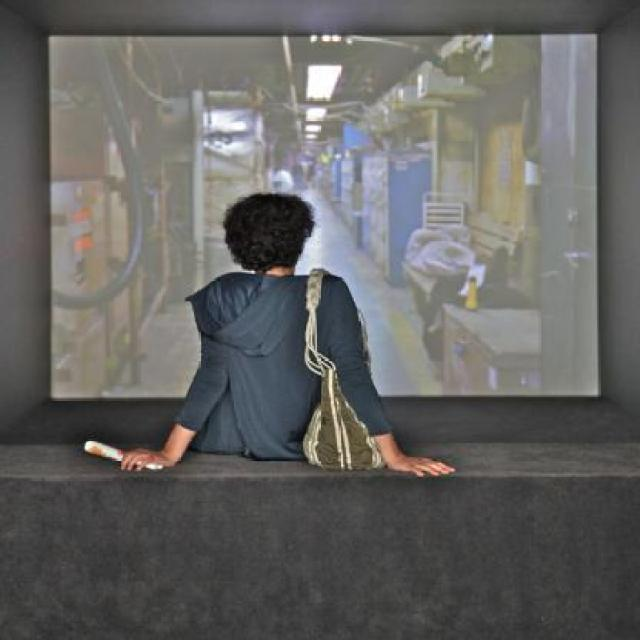Person: (152, 180, 406, 497)
